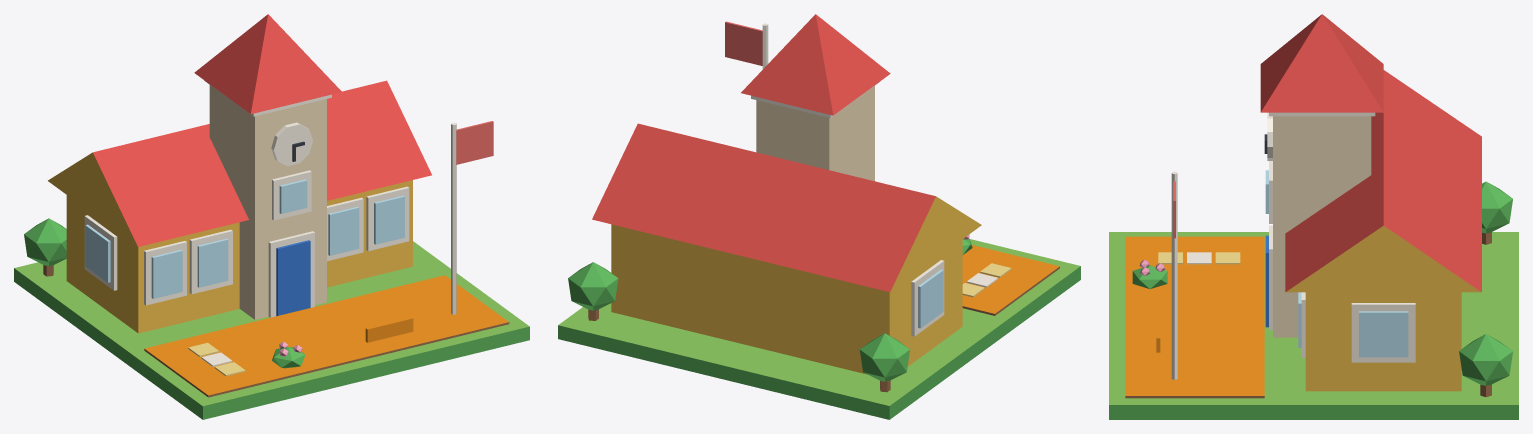
File: public_school.glb
3 renders of one model, left to right at view 1: azimuth 30°, elevation 25°; view 2: azimuth 150°, elevation 25°; view 3: azimuth 270°, elevation 25°, orthographic. The views are drawn at different scales.
Parts seen in each view (by area): view 1: public_school; view 2: public_school; view 3: public_school.
Part boxes in pixels (x1=…): public_school: x1=14, y1=14, x2=529, y2=419; public_school: x1=558, y1=14, x2=1080, y2=419; public_school: x1=1109, y1=14, x2=1518, y2=419.
Bounding box in the file's own units: 1.01 × 0.86 × 1.
